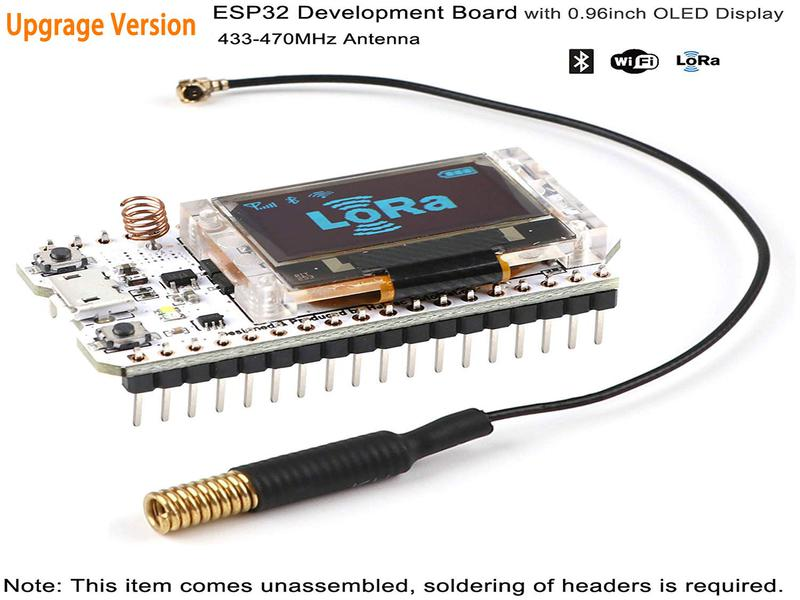Heltec_ESP32_Lora: (15, 140, 615, 428)
